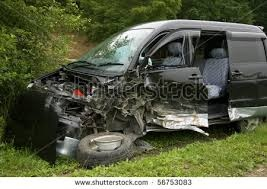Smashed: (25, 71, 229, 158)
